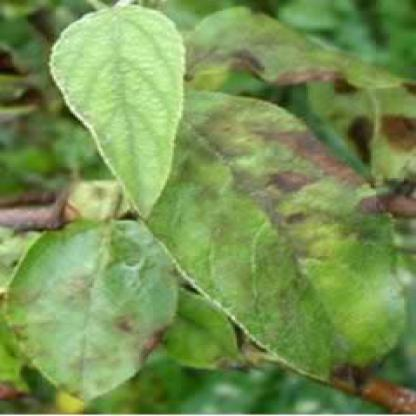Apple Scab Leaf: (122, 72, 414, 387), (9, 213, 202, 405)
